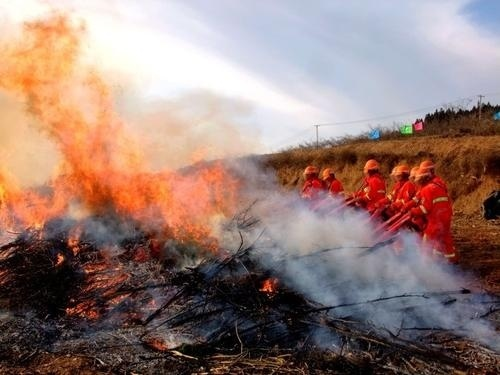fire: (0, 7, 245, 280), (259, 276, 279, 294)
